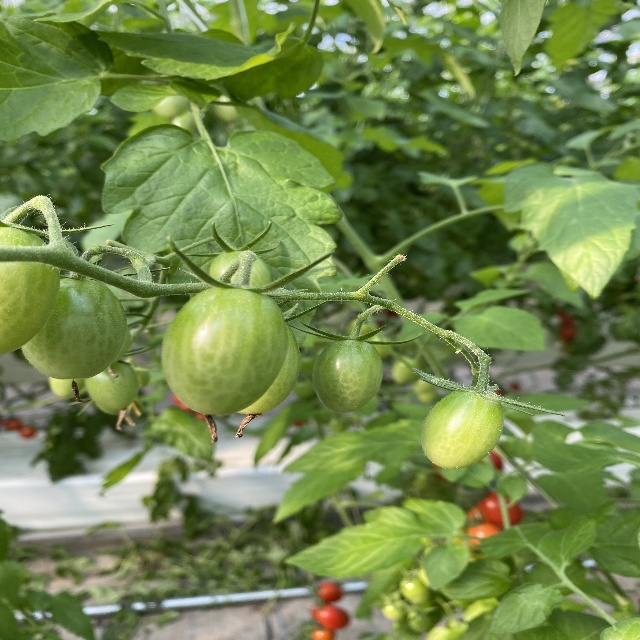l_green: (160, 285, 289, 417), (20, 276, 129, 379), (0, 227, 61, 356), (421, 388, 504, 469), (235, 323, 302, 415), (311, 337, 383, 413), (209, 250, 271, 293), (86, 362, 140, 410)
